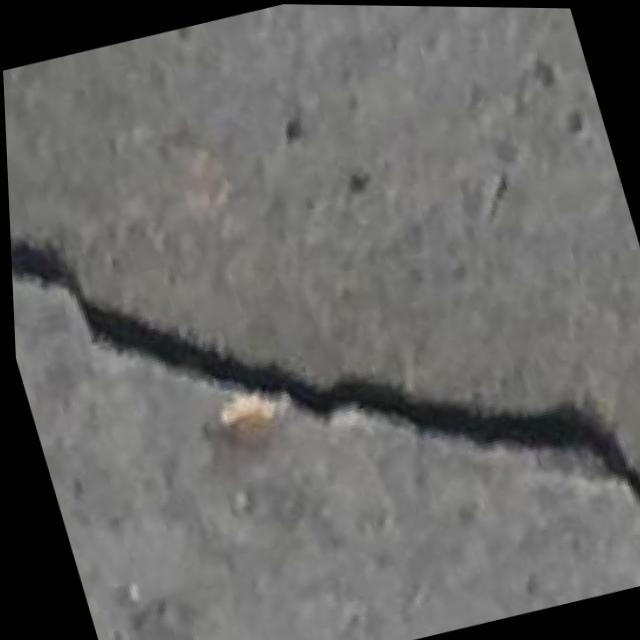Crack: (3, 83, 640, 640)
